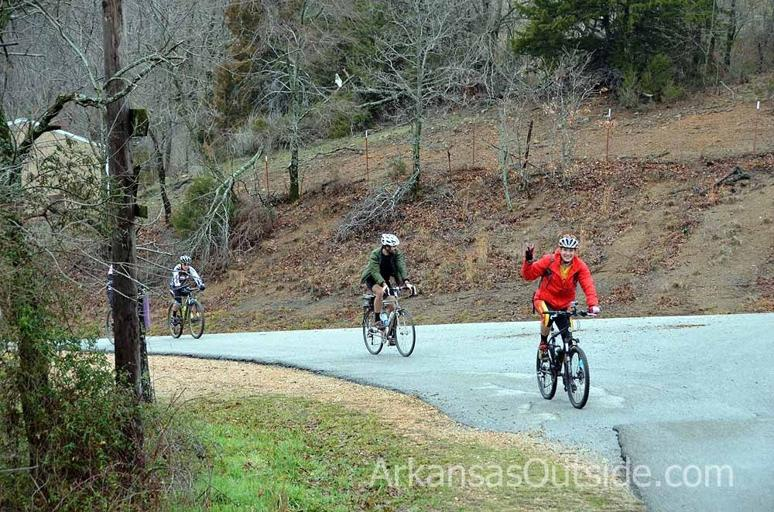non-vehicle: (536, 301, 597, 408), (362, 286, 415, 357), (105, 286, 148, 345), (167, 286, 203, 339)
